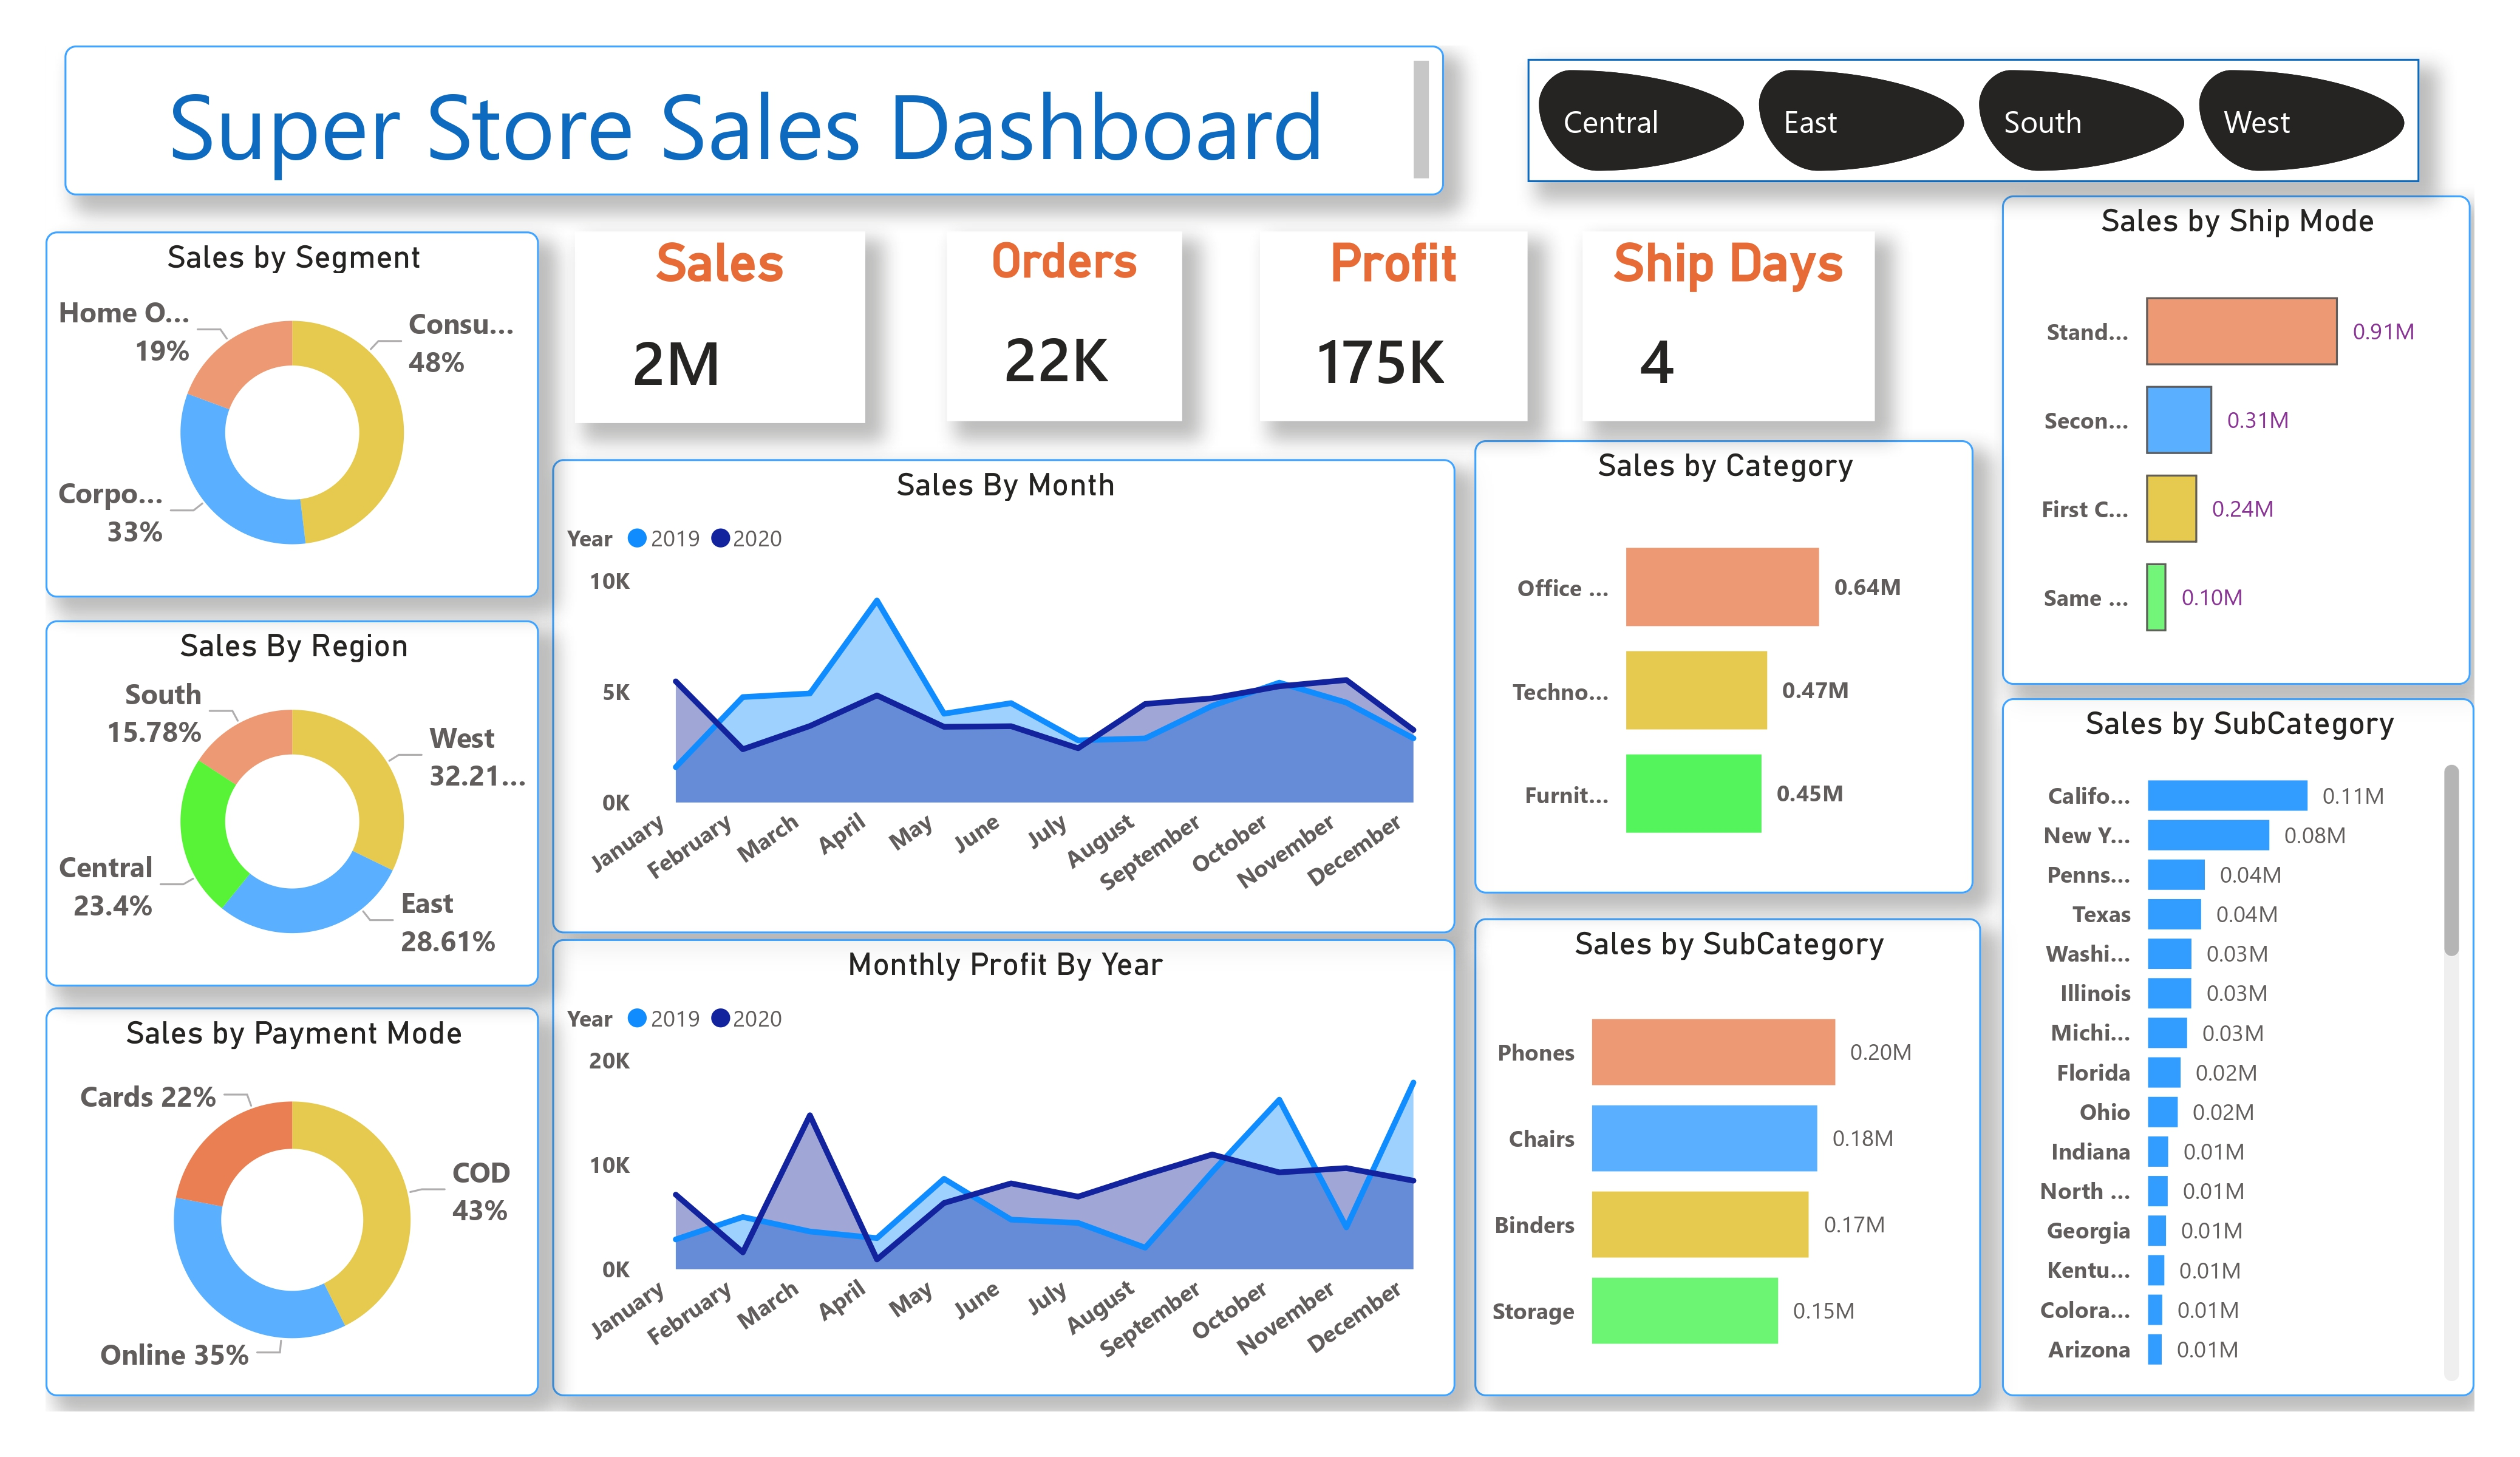

What the dashboard file says about the page in this screenshot:
{"tool":"powerbi","page":{"name":"Page 1","canvas":[1280,720],"ordinal":0},"visuals":[{"type":"clusteredBarChart","title":"Sales by SubCategory","fields":{"Category":["Sheet1 (2).Sub-Category"],"Y":["Sum(Sheet1 (2).Sales)"]},"box":[752.9,459.9,266.8,252.1],"z":0},{"type":"clusteredBarChart","title":"Sales by Ship Mode","fields":{"Category":["Sheet1 (2).Ship Mode"],"Y":["Sum(Sheet1 (2).Sales)"]},"box":[1031.2,78.6,247.2,258.6],"z":1000},{"type":"areaChart","title":"Sales By Month","fields":{"Category":["Sheet1 (2).Order Date.Variation.Date Hierarchy.Month"],"Series":["Sheet1 (2).Order Date.Variation.Date Hierarchy.Year"],"Y":["Max(Sheet1 (2).Sales)"]},"box":[266.8,217.7,476.3,250.4],"z":2000},{"type":"areaChart","title":"Monthly Profit By Year","fields":{"Category":["Sheet1 (2).Order Date.Variation.Date Hierarchy.Month","Sheet1 (2).Order Date.Variation.Date Hierarchy.Day"],"Series":["Sheet1 (2).Order Date.Variation.Date Hierarchy.Year"],"Y":["Sum(Sheet1 (2).Profit)"]},"box":[266.8,471.4,476.3,240.6],"z":3000},{"type":"donutChart","title":"Sales by Segment","fields":{"Category":["Sheet1 (2).Segment"],"Y":["Sum(Sheet1 (2).Sales)"]},"box":[0,98.2,260.3,193.1],"z":4000},{"type":"clusteredBarChart","title":"Sales by Category","fields":{"Category":["Sheet1 (2).Category"],"Y":["Sum(Sheet1 (2).Sales)"]},"box":[752.9,207.9,263.5,239],"z":5000},{"type":"donutChart","title":"Sales by Payment Mode","fields":{"Category":["Sheet1 (2).Payment Mode"],"Y":["Sum(Sheet1 (2).Sales)"]},"box":[0,507.4,260.3,204.6],"z":6000},{"type":"advancedSlicerVisual","fields":{"Values":["Sheet1 (2).Region"]},"box":[780.8,6.5,469.8,65.5],"z":7000},{"type":"cardVisual","title":"Sales","fields":{"Data":["Sum(Sheet1 (2).Sales)"]},"box":[279.4,97.9,152.6,100.8],"z":8000},{"type":"cardVisual","title":"Orders","fields":{"Data":["Sum(Sheet1 (2).Quantity)"]},"box":[474.7,98.2,124.4,99.8],"z":9000},{"type":"cardVisual","title":"Profit","fields":{"Data":["Sum(Sheet1 (2).Profit)"]},"box":[640,98.2,140.8,99.8],"z":10000},{"type":"cardVisual","title":"Ship Days","fields":{"Data":["Avg(Sheet1 (2).AvgDelivery)"]},"box":[810.2,98.2,153.9,99.8],"z":11000},{"type":"donutChart","title":"Sales By Region","fields":{"Category":["Sheet1 (2).Region"],"Y":["CountNonNull(Sheet1 (2).State)"]},"box":[0,302.8,260.3,193.1],"z":12000},{"type":"clusteredBarChart","title":"Sales by SubCategory","fields":{"Category":["Sheet1 (2).State"],"Y":["Sum(Sheet1 (2).Sales)"]},"box":[1031.2,343.7,248.8,368.3],"z":13000},{"type":"textbox","box":[9.8,0,726.8,78.6],"z":14000}]}

Visuals, with their boxes on the page's 1280x720 design canvas (x1, y1, x2, y2). These are canvas units, not pixel positions in the 2520x1457 screenshot, which may show the page scaled, cropped or inside an application window:
"Sales by SubCategory" clusteredBarChart: (left=753, top=460, right=1020, bottom=712)
"Sales by Ship Mode" clusteredBarChart: (left=1031, top=79, right=1278, bottom=337)
"Sales By Month" areaChart: (left=267, top=218, right=743, bottom=468)
"Monthly Profit By Year" areaChart: (left=267, top=471, right=743, bottom=712)
"Sales by Segment" donutChart: (left=0, top=98, right=260, bottom=291)
"Sales by Category" clusteredBarChart: (left=753, top=208, right=1016, bottom=447)
"Sales by Payment Mode" donutChart: (left=0, top=507, right=260, bottom=712)
advancedSlicerVisual - Sheet1 (2).Region: (left=781, top=6, right=1251, bottom=72)
"Sales" cardVisual: (left=279, top=98, right=432, bottom=199)
"Orders" cardVisual: (left=475, top=98, right=599, bottom=198)
"Profit" cardVisual: (left=640, top=98, right=781, bottom=198)
"Ship Days" cardVisual: (left=810, top=98, right=964, bottom=198)
"Sales By Region" donutChart: (left=0, top=303, right=260, bottom=496)
"Sales by SubCategory" clusteredBarChart: (left=1031, top=344, right=1280, bottom=712)
textbox: (left=10, top=0, right=737, bottom=79)
